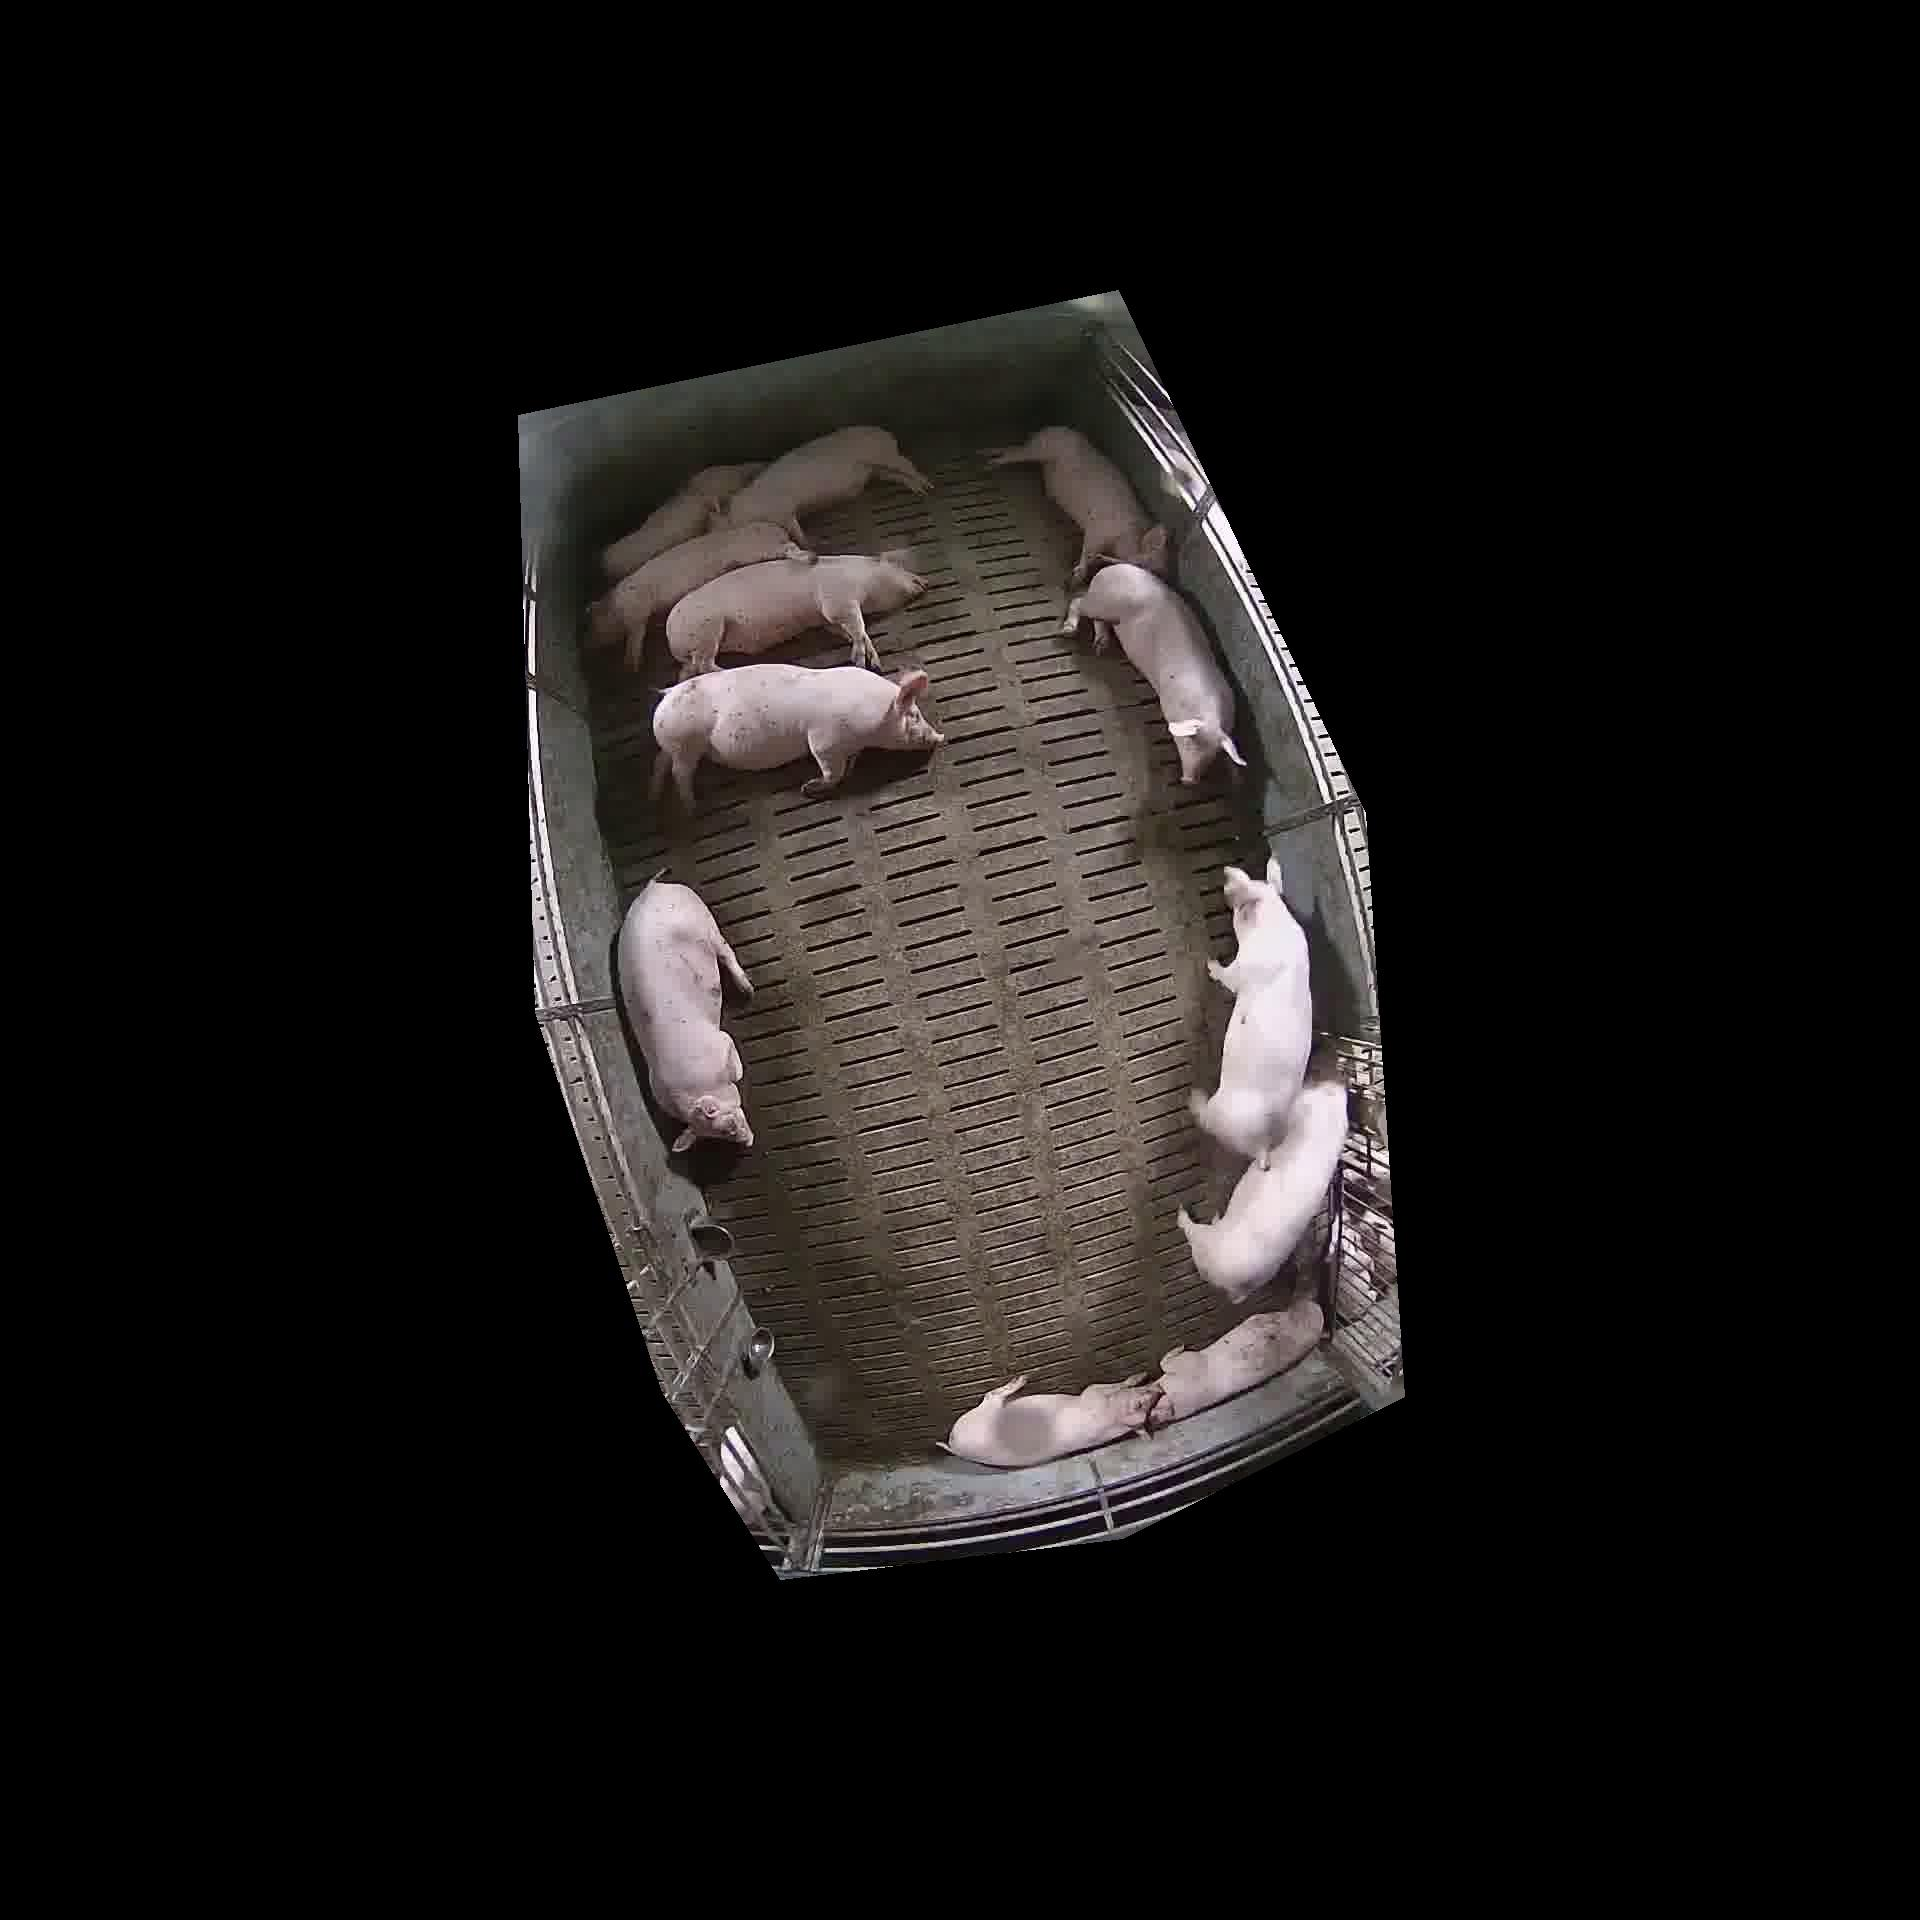pig: (651, 665, 942, 809), (1064, 563, 1241, 782), (617, 879, 753, 1152), (1180, 1081, 1347, 1299), (1190, 862, 1312, 1155), (587, 522, 807, 668), (666, 554, 927, 677), (988, 427, 1167, 585), (726, 425, 930, 543), (1150, 1298, 1324, 1424), (948, 1377, 1160, 1466), (600, 462, 761, 580)
